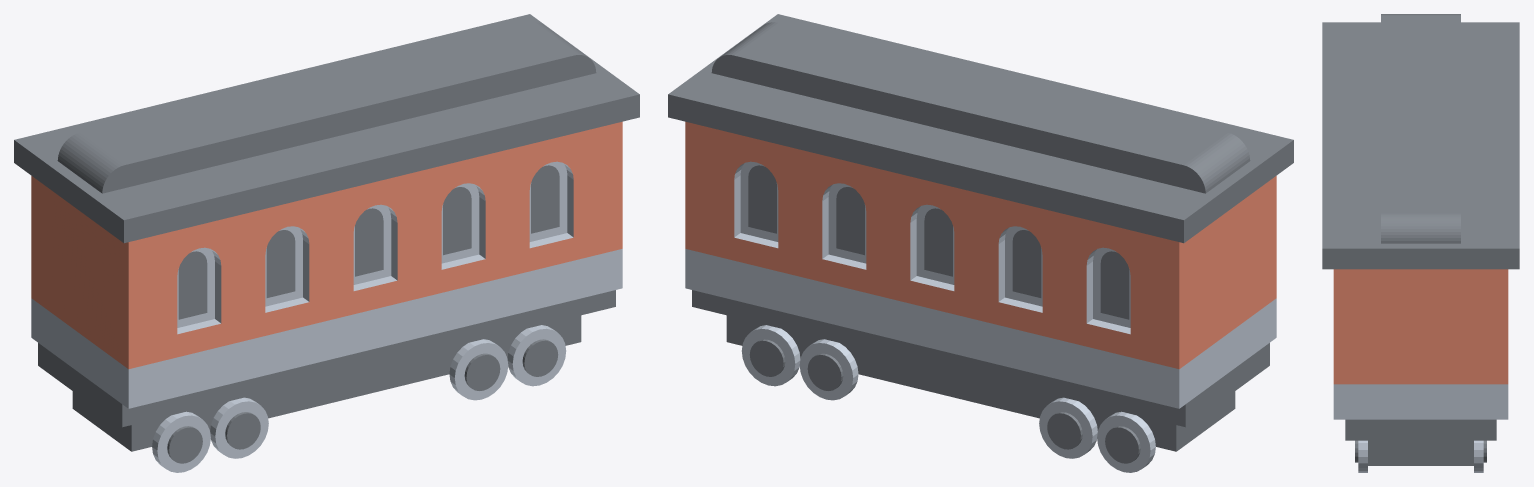
Rendered from trainWagon.dae.
3 views of the same model, side by side, from view 1: azimuth 30°, elevation 25°; view 2: azimuth 150°, elevation 25°; view 3: azimuth 270°, elevation 25° (orthographic). The views are drawn at different scales.
Parts seen in each view (by area): view 1: trainWagon; view 2: trainWagon; view 3: trainWagon.
Boxes of the visible parts, x1,y1,x2,y2 form: trainWagon: (14, 14, 639, 472); trainWagon: (668, 14, 1293, 472); trainWagon: (1322, 14, 1519, 472).
Size of the model in its own units: 0.7612 by 0.2806 by 0.4361.
